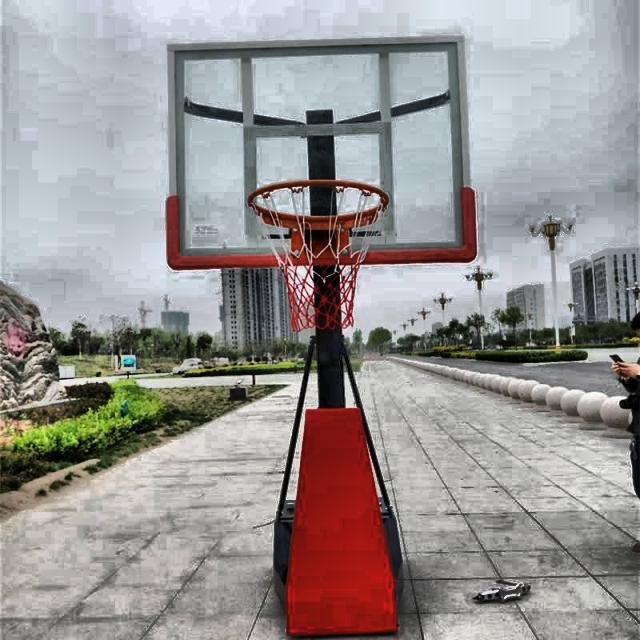rim: (254, 180, 389, 333)
